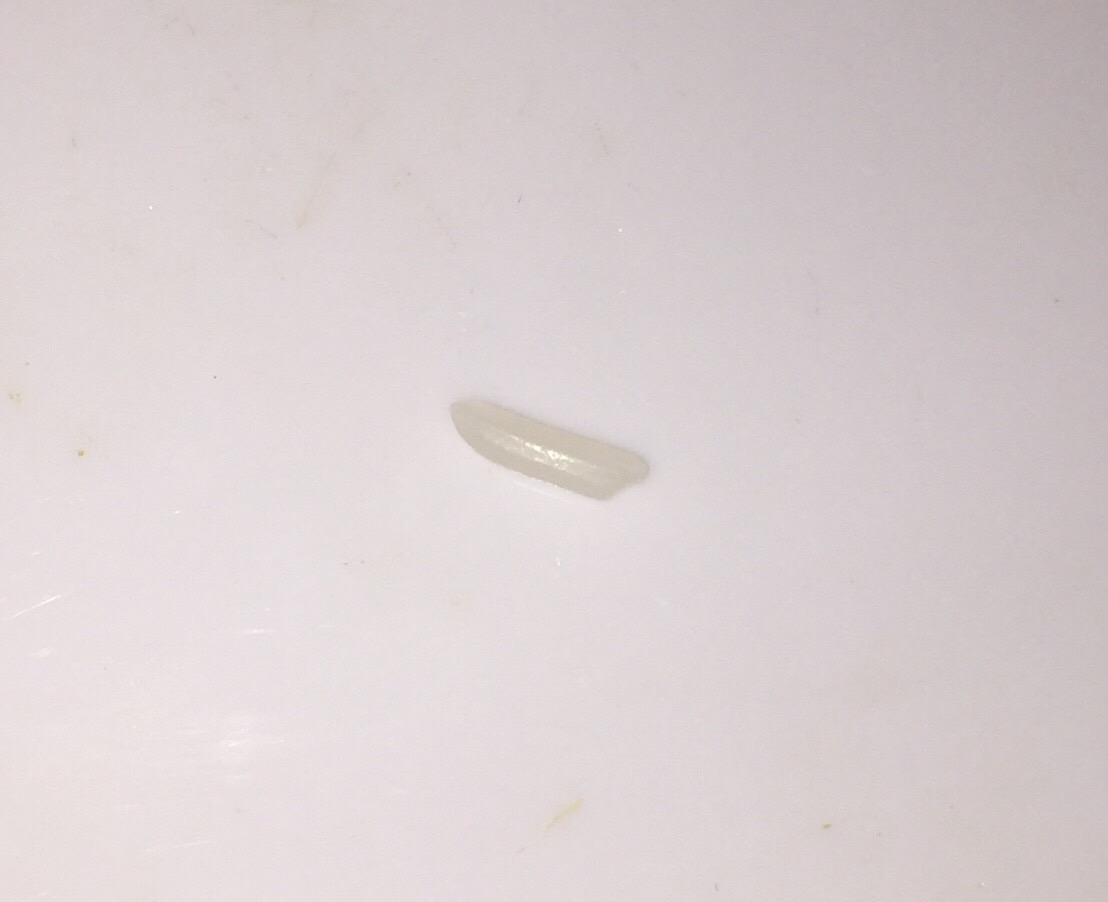Gao Ngoc Troi: (410, 372, 660, 514)
